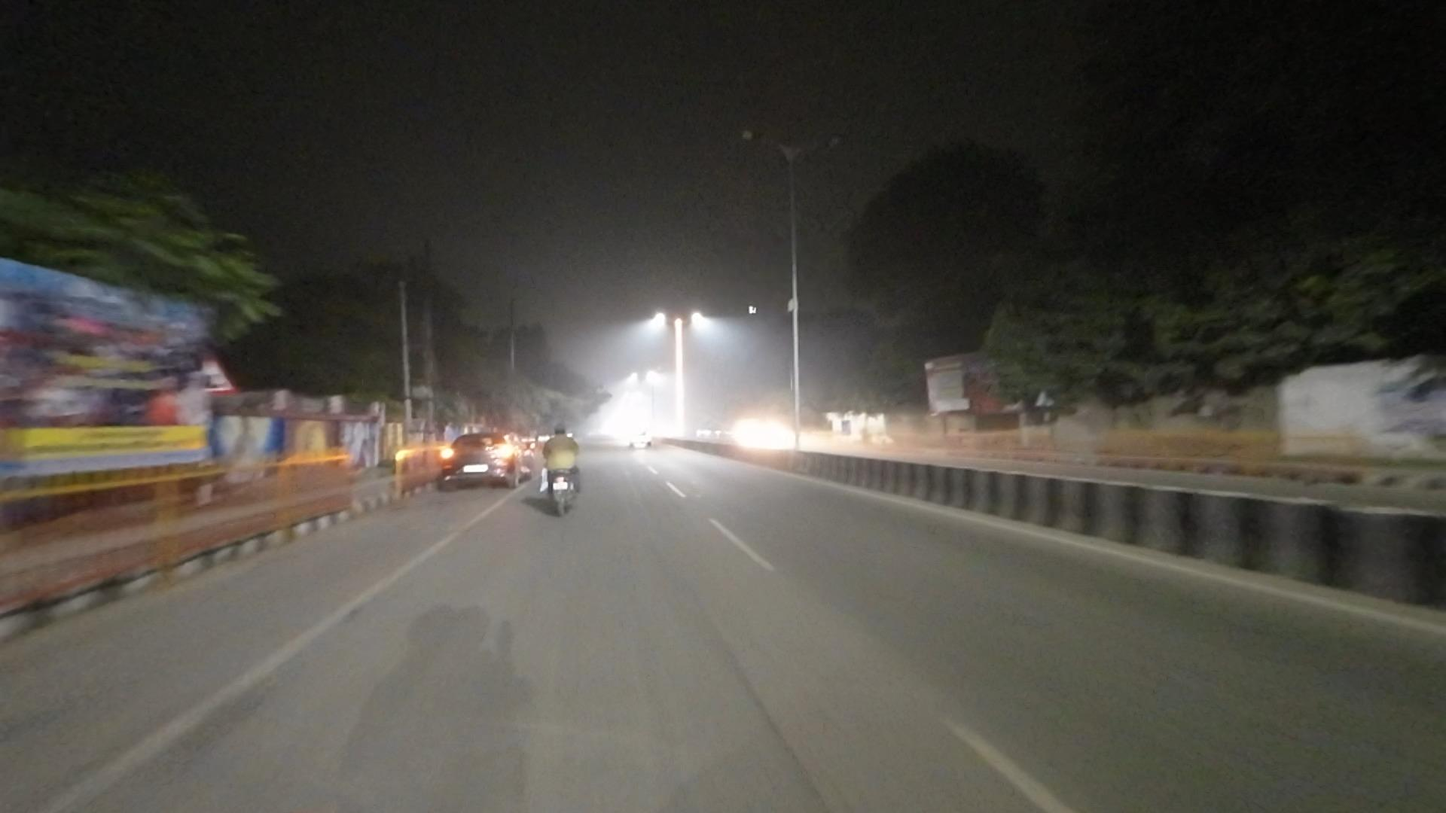streetlight: (742, 128, 779, 151), (798, 133, 843, 151)
